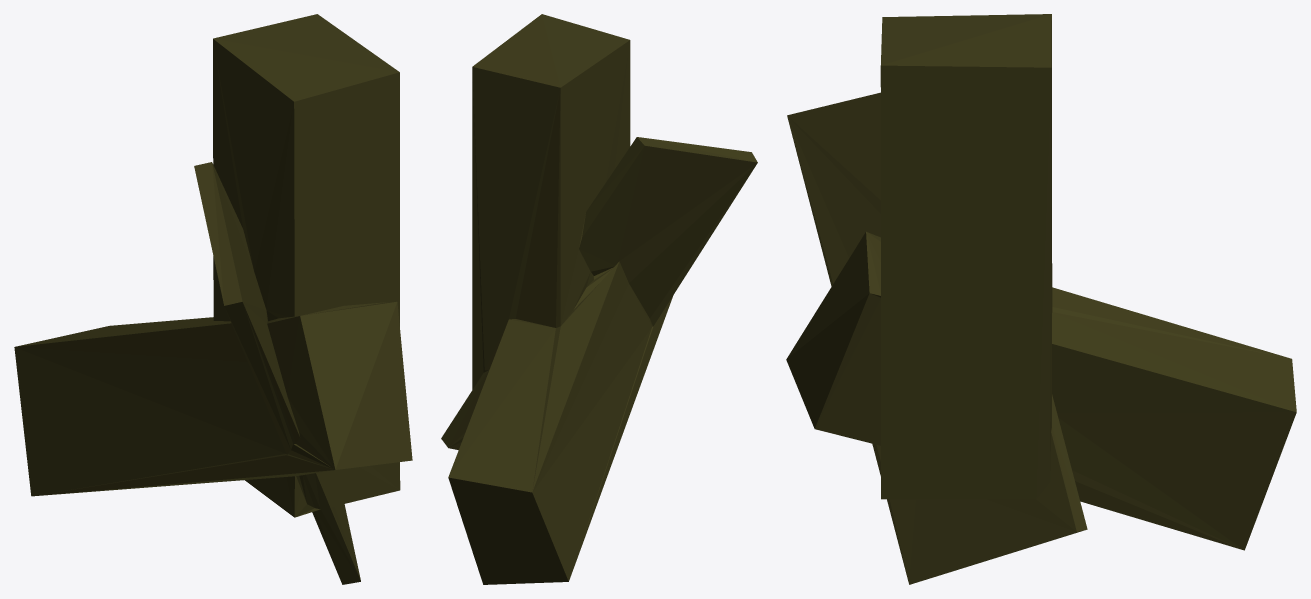
The picture shows the model from 3 angles, left to right: view 1: azimuth 30°, elevation 25°; view 2: azimuth 150°, elevation 25°; view 3: azimuth 270°, elevation 25°; orthographic projection. The views are drawn at different scales.
Parts seen in each view (by area): view 1: 874_Cube.3532; view 2: 874_Cube.3532; view 3: 874_Cube.3532.
Part boxes in pixels (box(x1,y1,x2,y2)): 874_Cube.3532: box(14, 14, 412, 584); 874_Cube.3532: box(441, 14, 757, 584); 874_Cube.3532: box(786, 14, 1296, 584).
Bounding box in the file's own units: 7.22 × 14.95 × 12.84.
